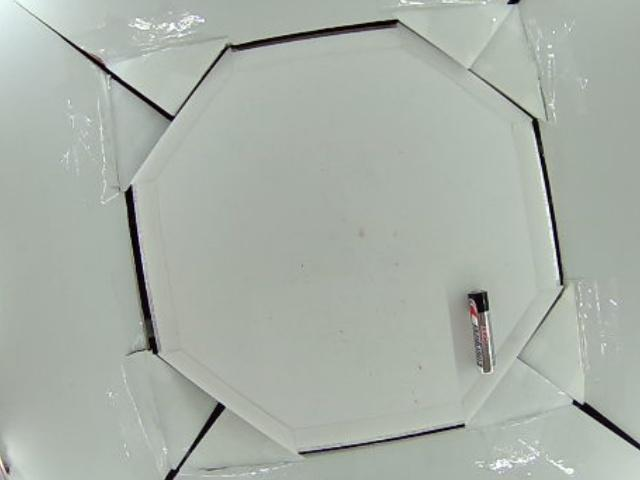Battery: (466, 290, 494, 376)
